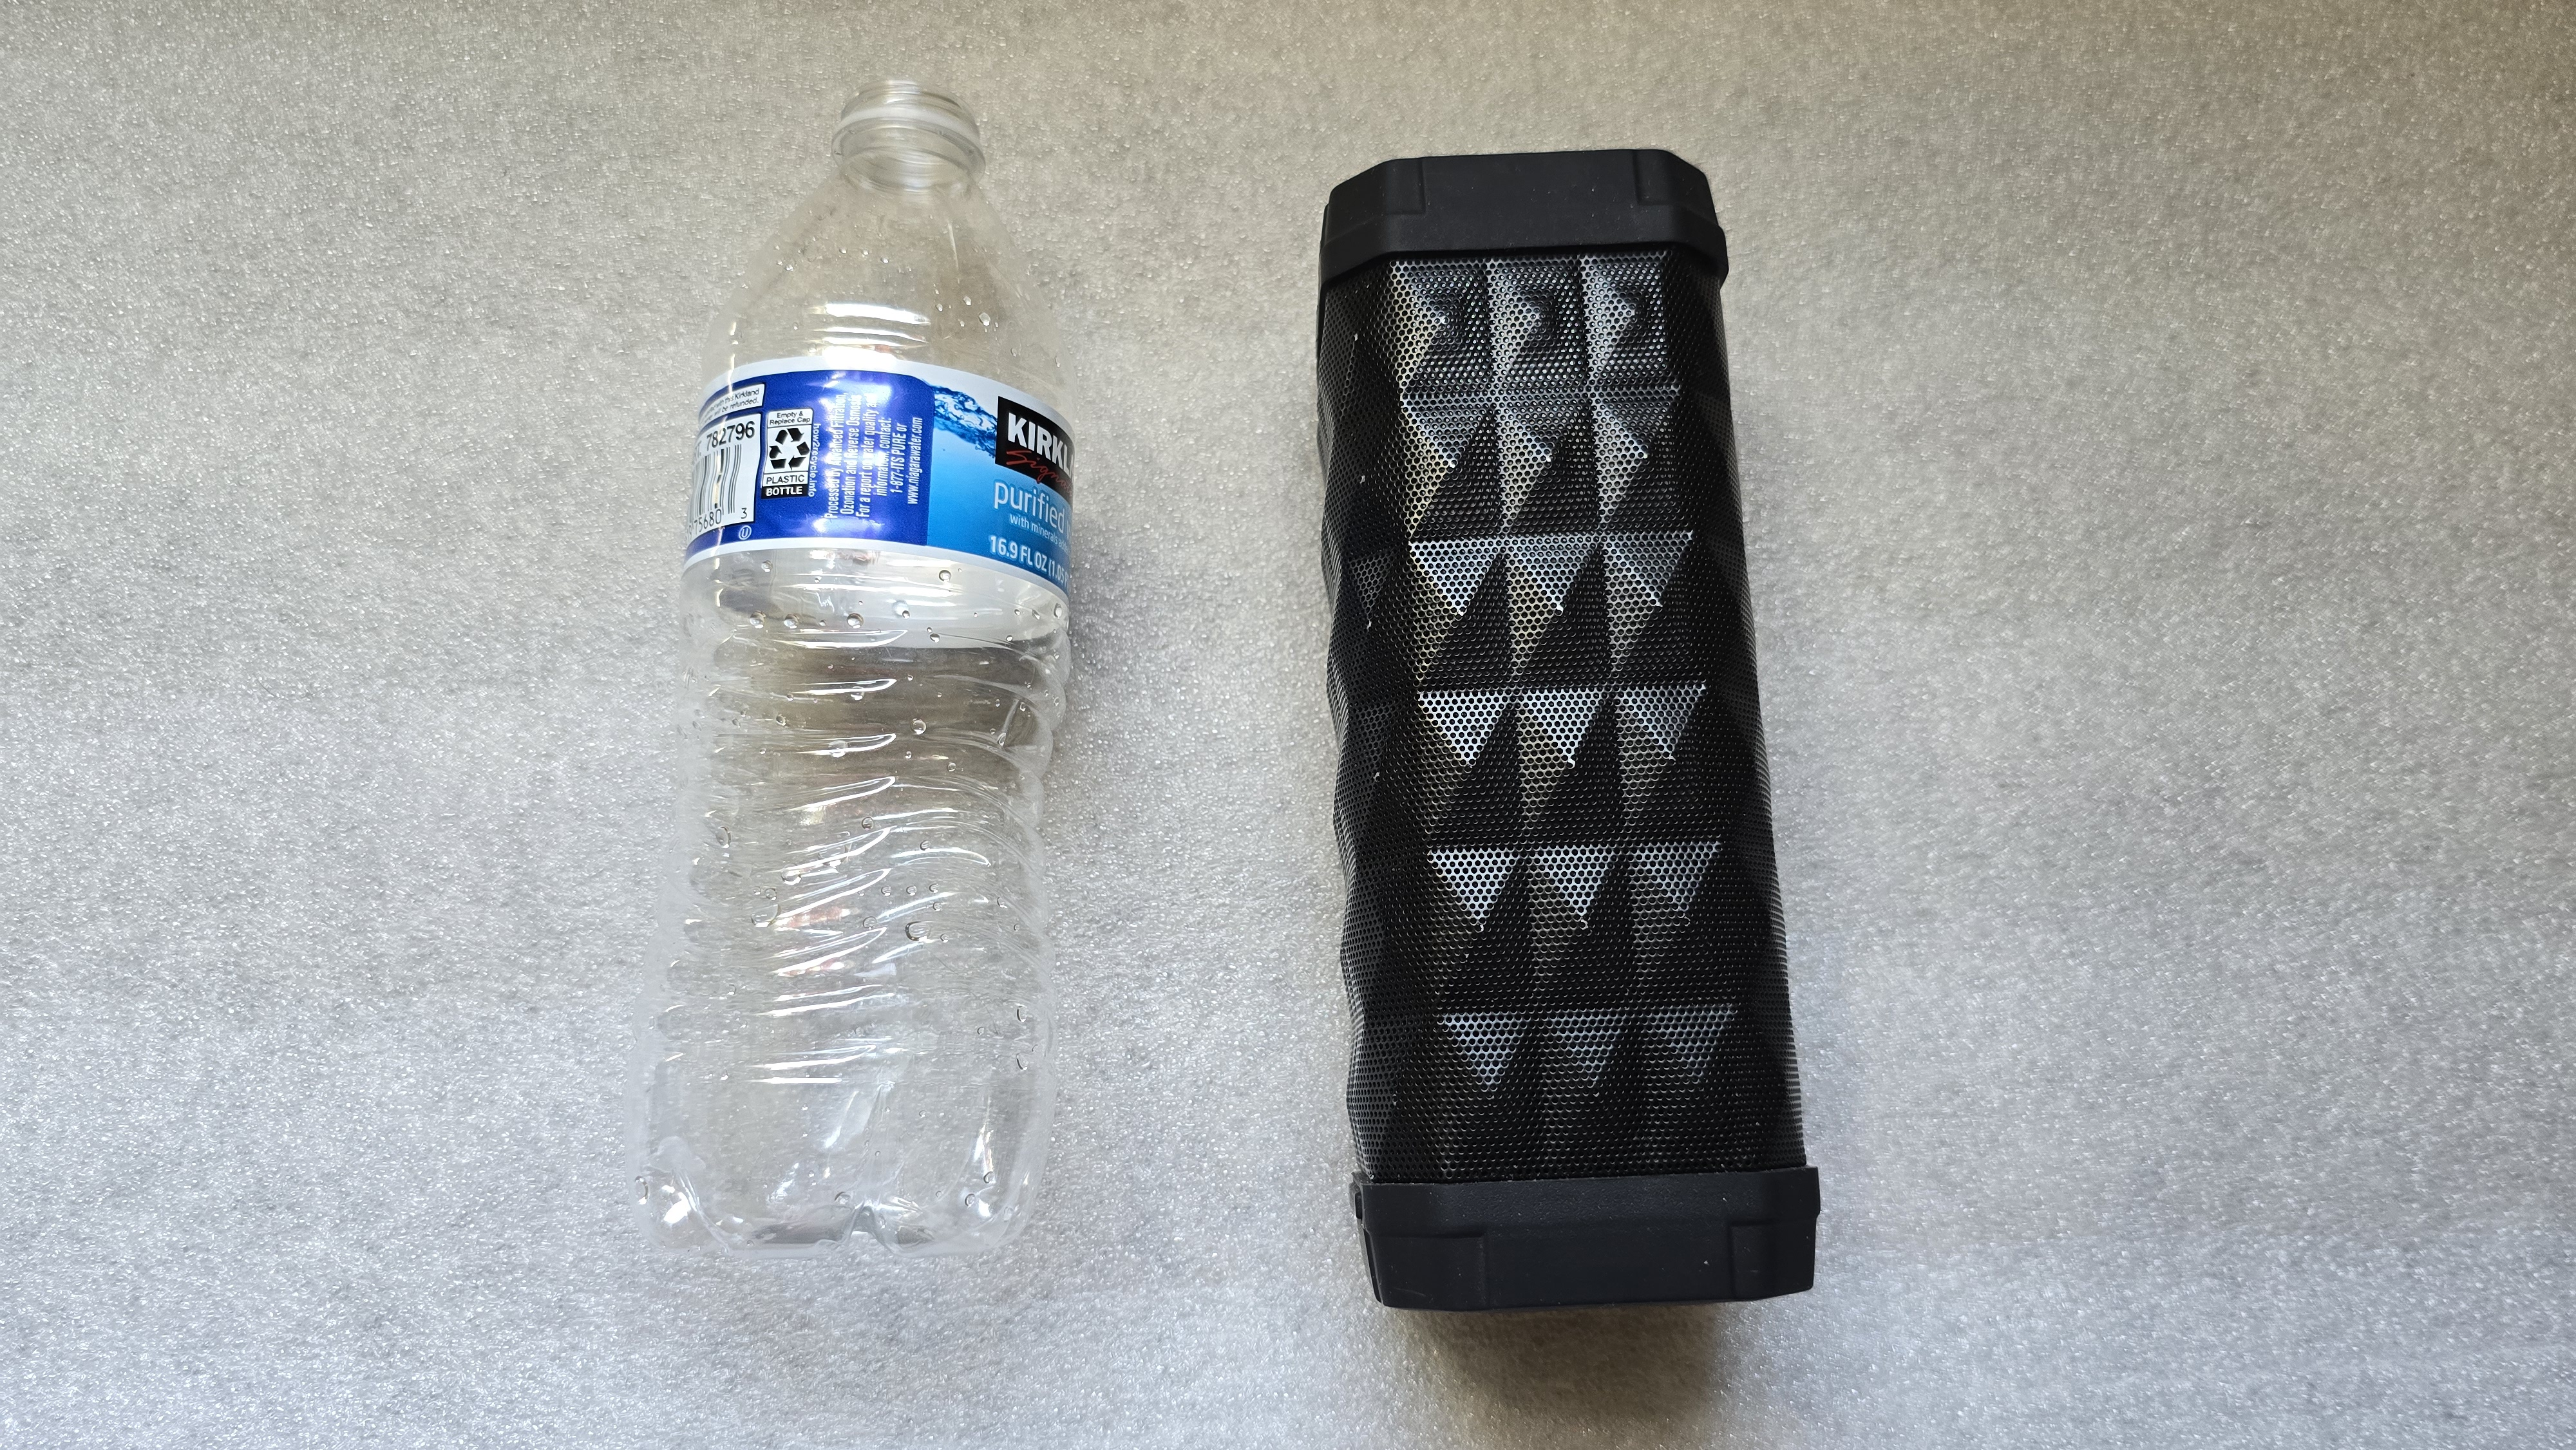bottle: (592, 53, 1097, 1260)
